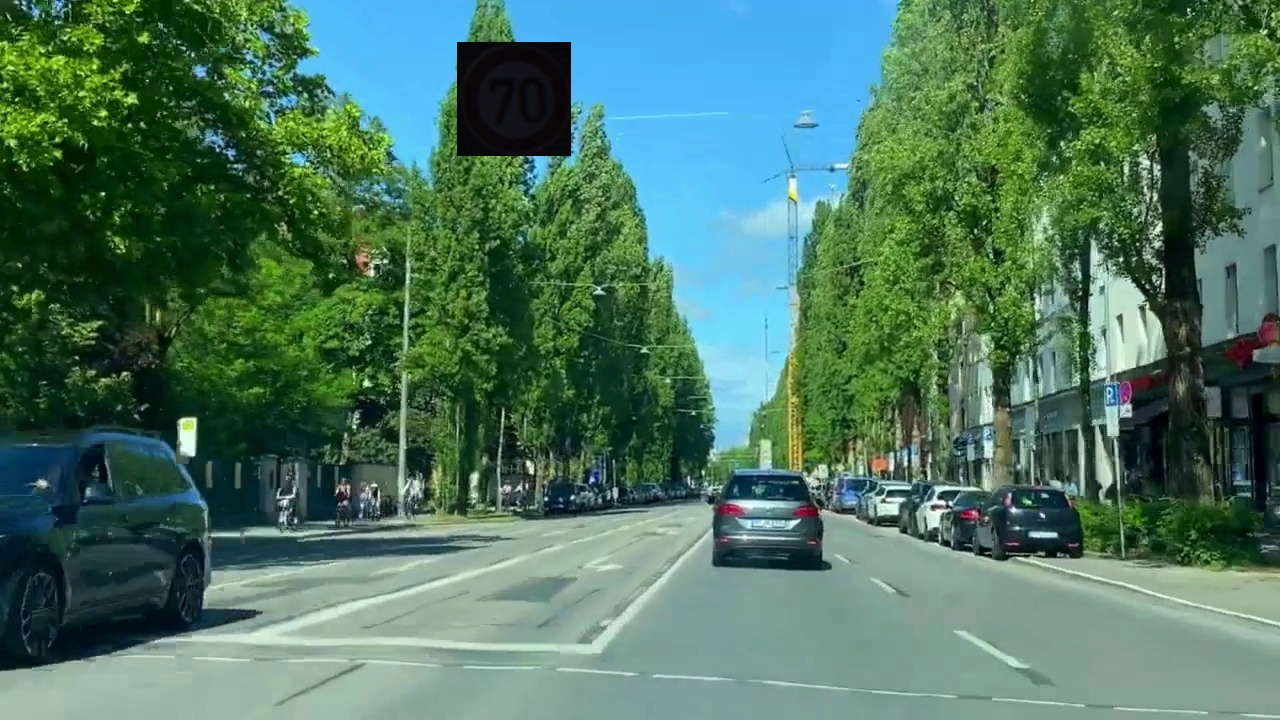Speed 70: (457, 42, 571, 156)
